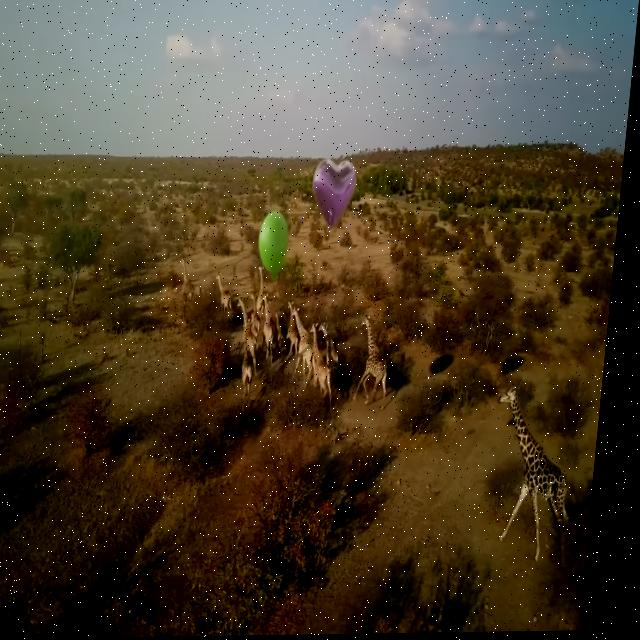balloon: (312, 162, 361, 230), (260, 214, 297, 279)
